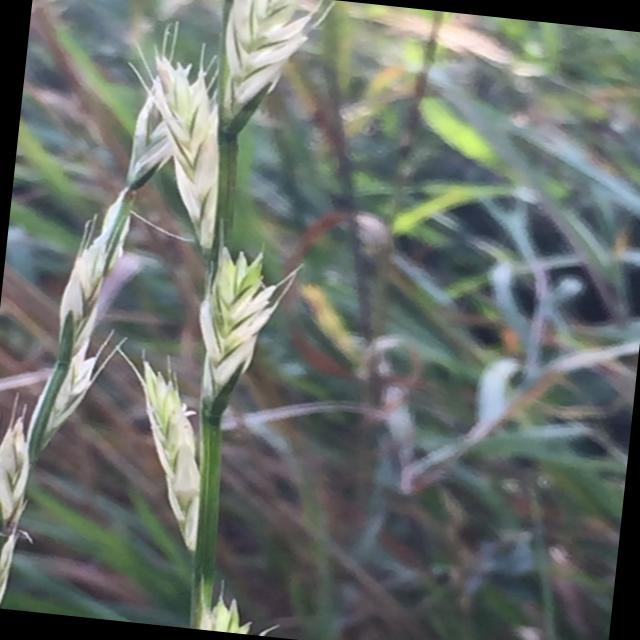Lolium: (0, 0, 349, 636)
